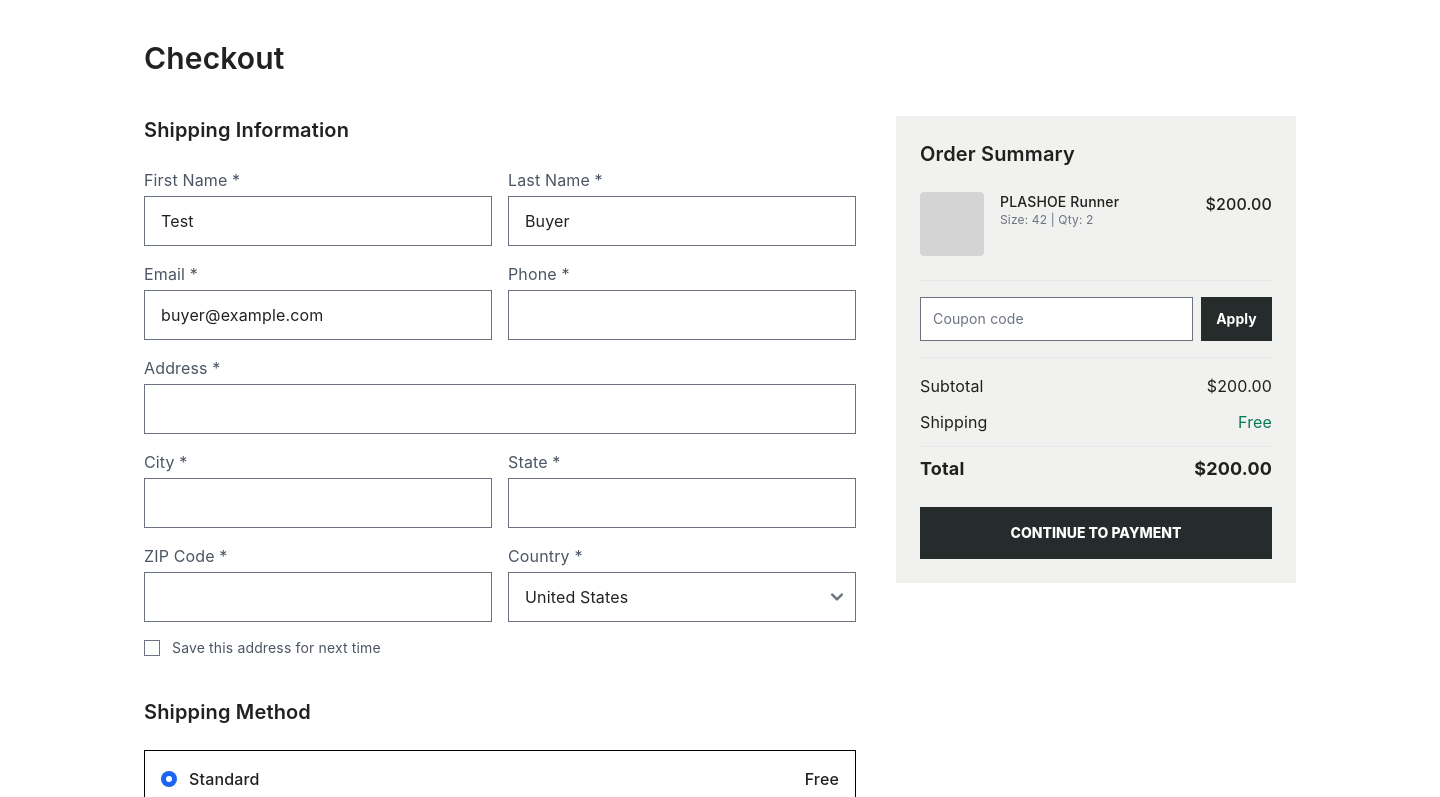
Test case: blocks payment when the selected country is unsupported
This screenshot has width=1440, height=797.
Check: the heading "Checkout" is shown, box 144,40 -> 284,76
Type "5551234567" into the field named "phone" at {"x": 682, "y": 315}, box 508,290 -> 856,340
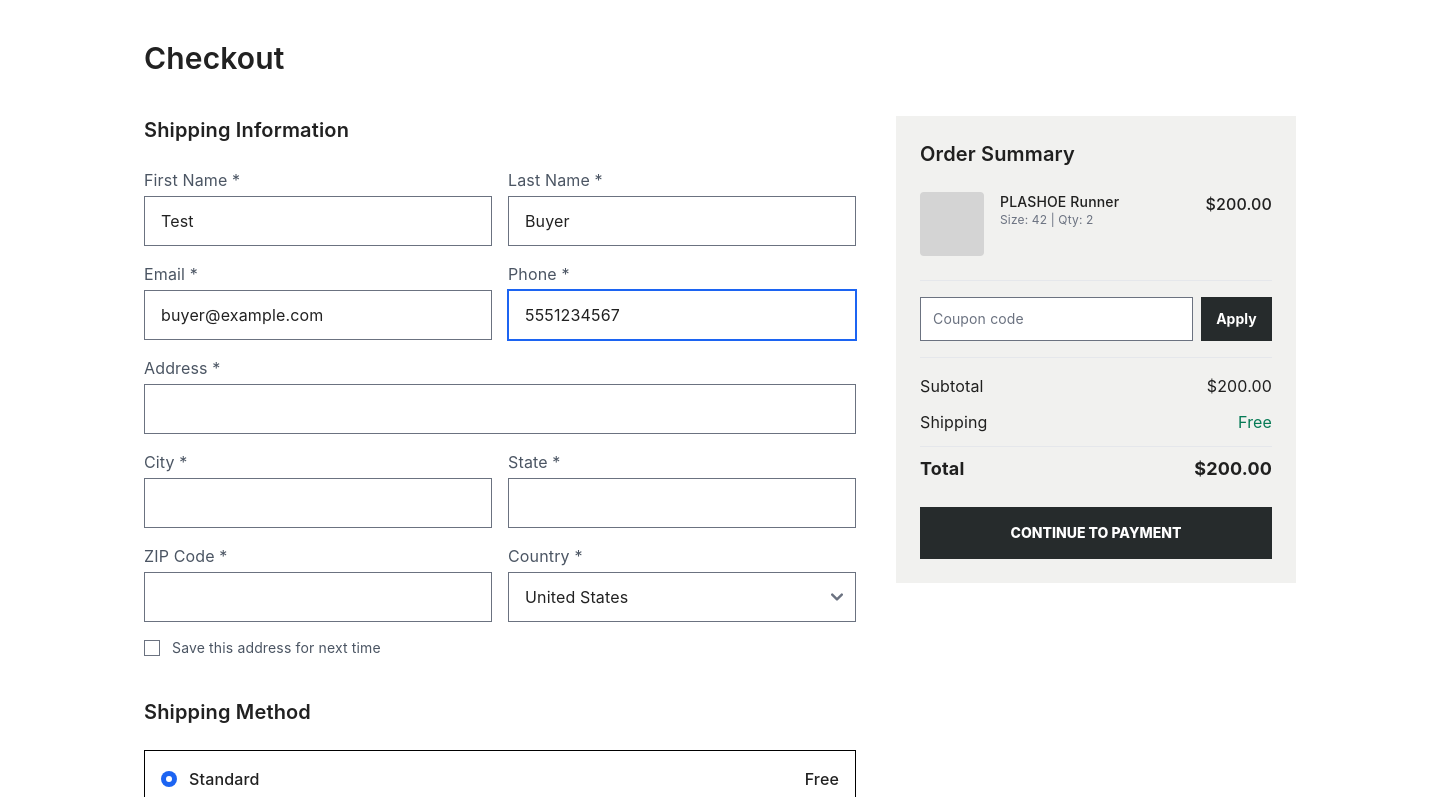
Type "123 Test Street" into the field named "address" at {"x": 500, "y": 409}, box 144,384 -> 856,434
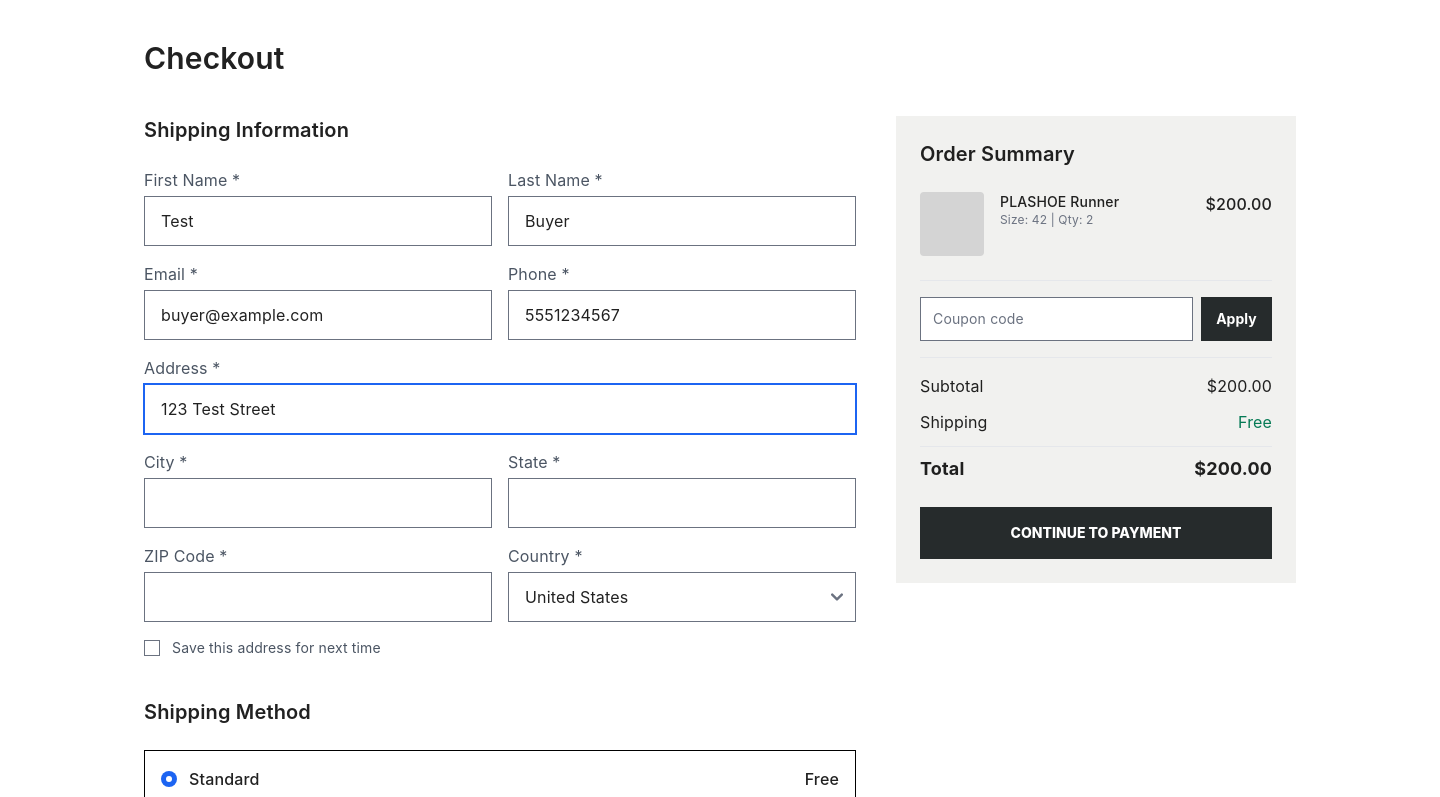
Type "Testville" into the field named "city" at {"x": 318, "y": 503}, box 144,478 -> 492,528
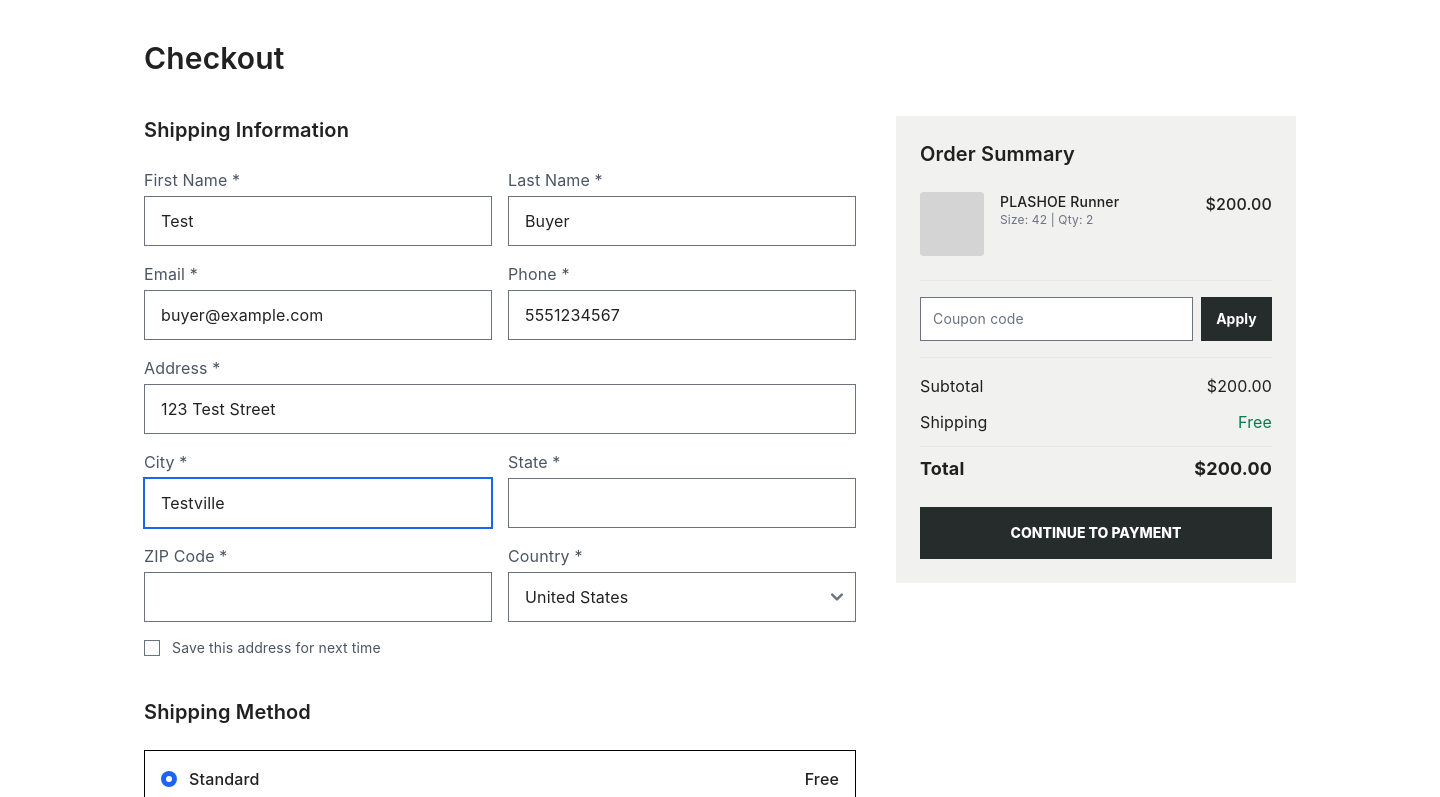
Type "CA" into the field named "state" at {"x": 682, "y": 503}, box 508,478 -> 856,528
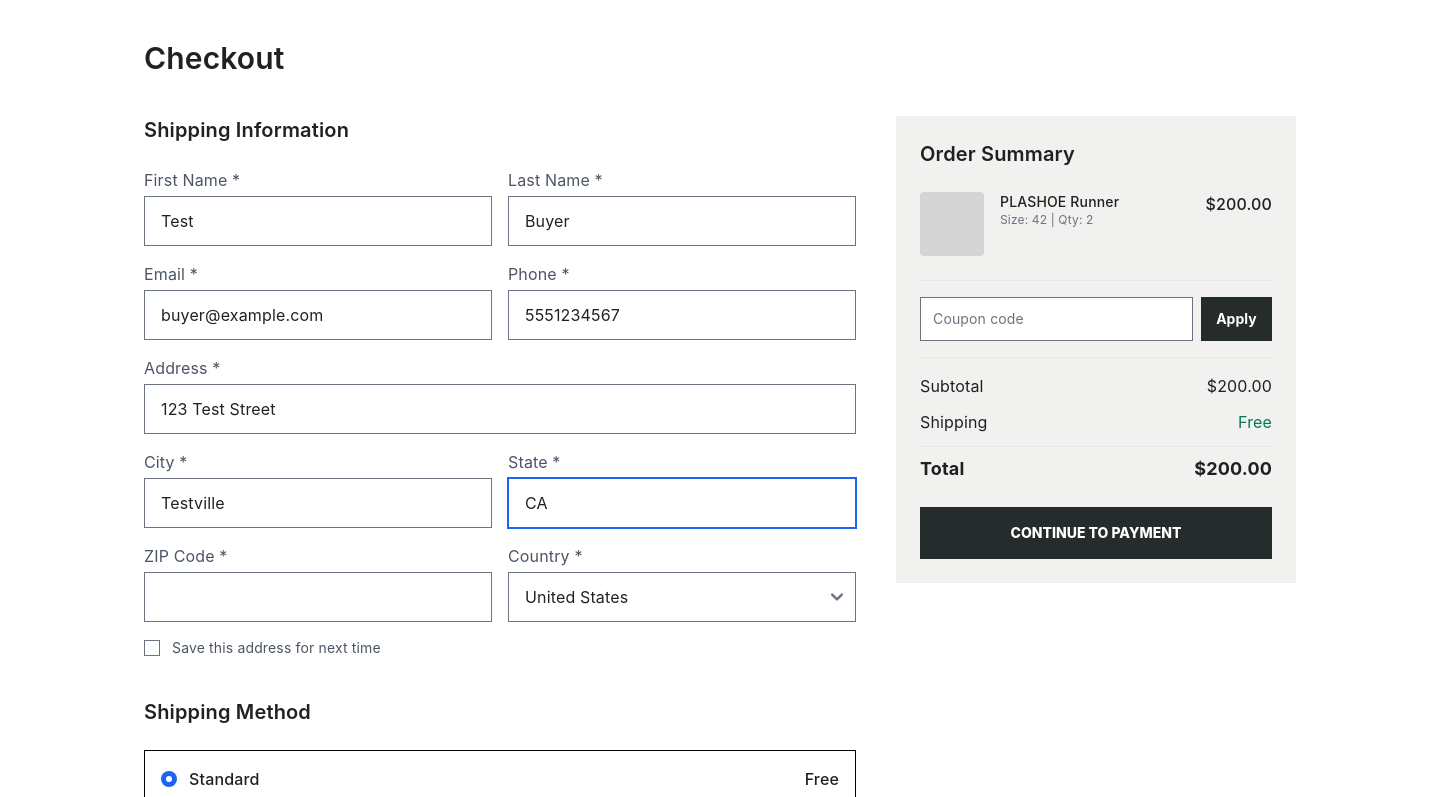
Type "90210" into the field named "zipCode" at {"x": 318, "y": 597}, box 144,572 -> 492,622
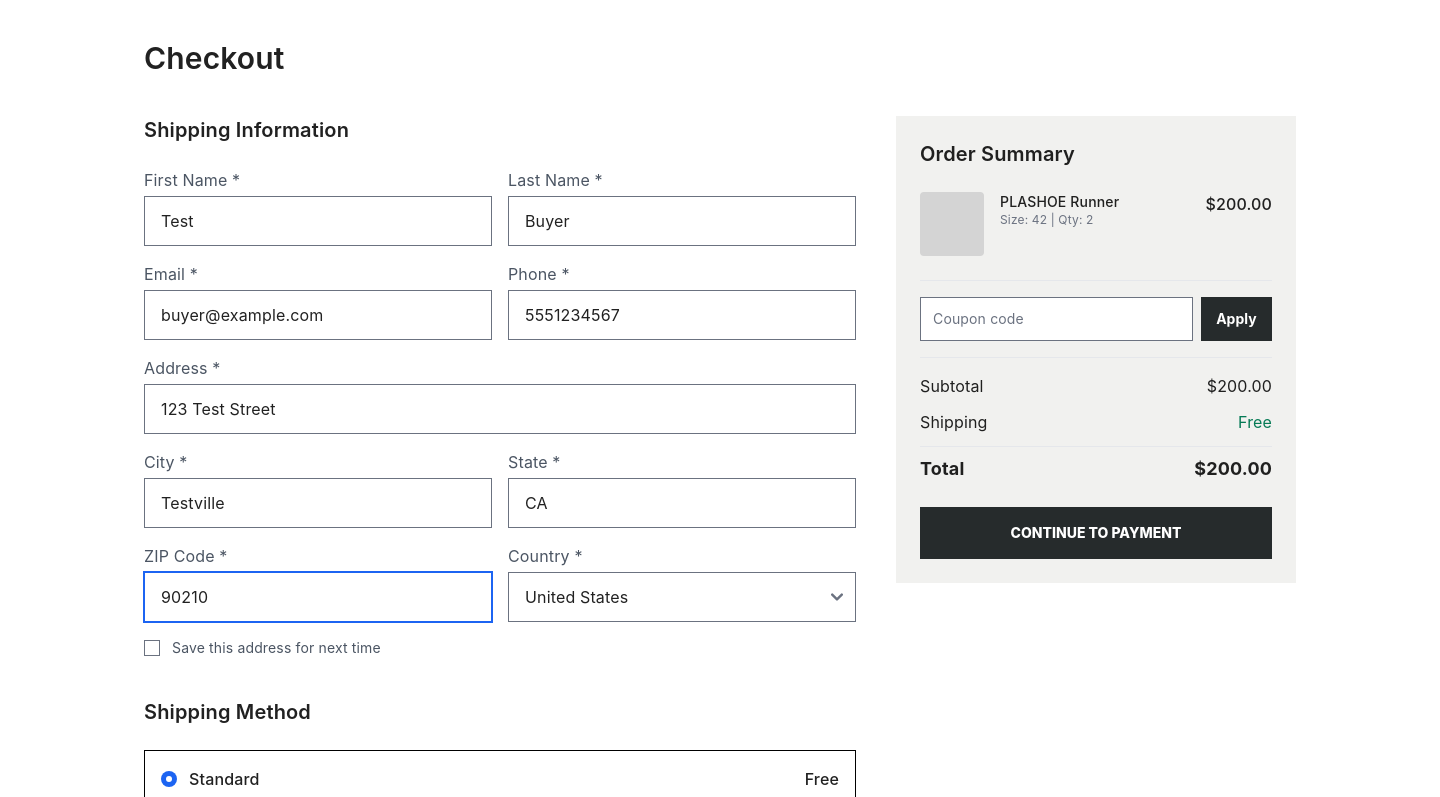
Select "Australia" in the dropdown labelled "Country *" at {"x": 682, "y": 597}, box 508,572 -> 856,622
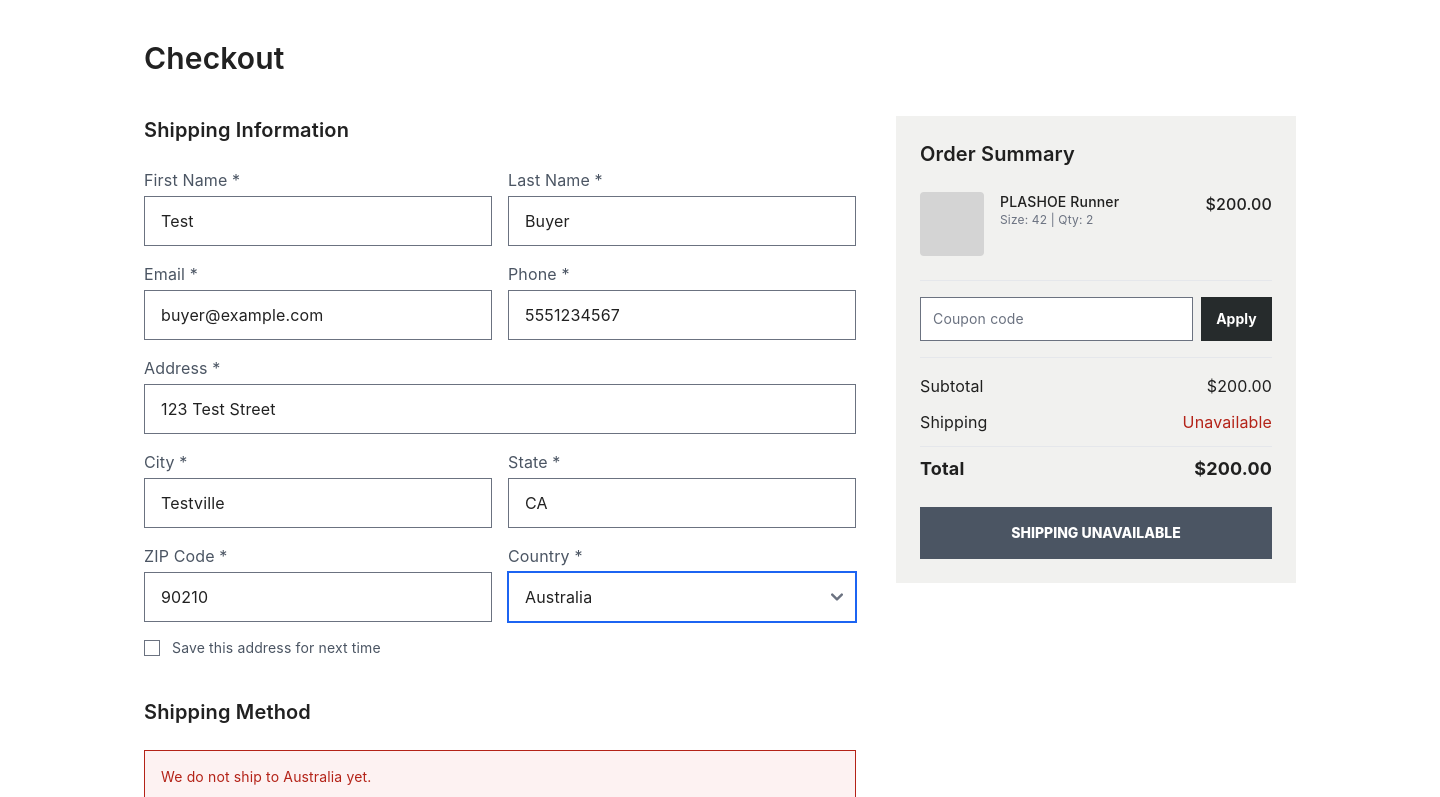
Check: the message reads "We do not ship to Australia yet.", box 161,768 -> 371,785
Check: the button "SHIPPING UNAVAILABLE" is disabled, box 920,507 -> 1272,559
